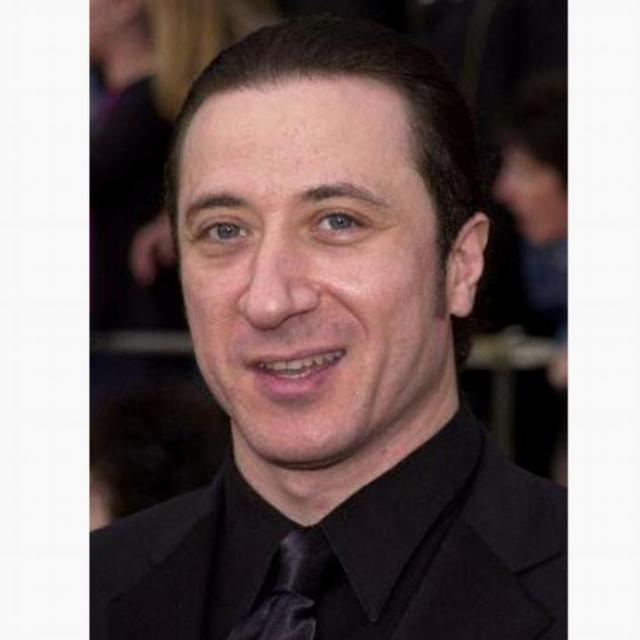live: (167, 72, 493, 468)
